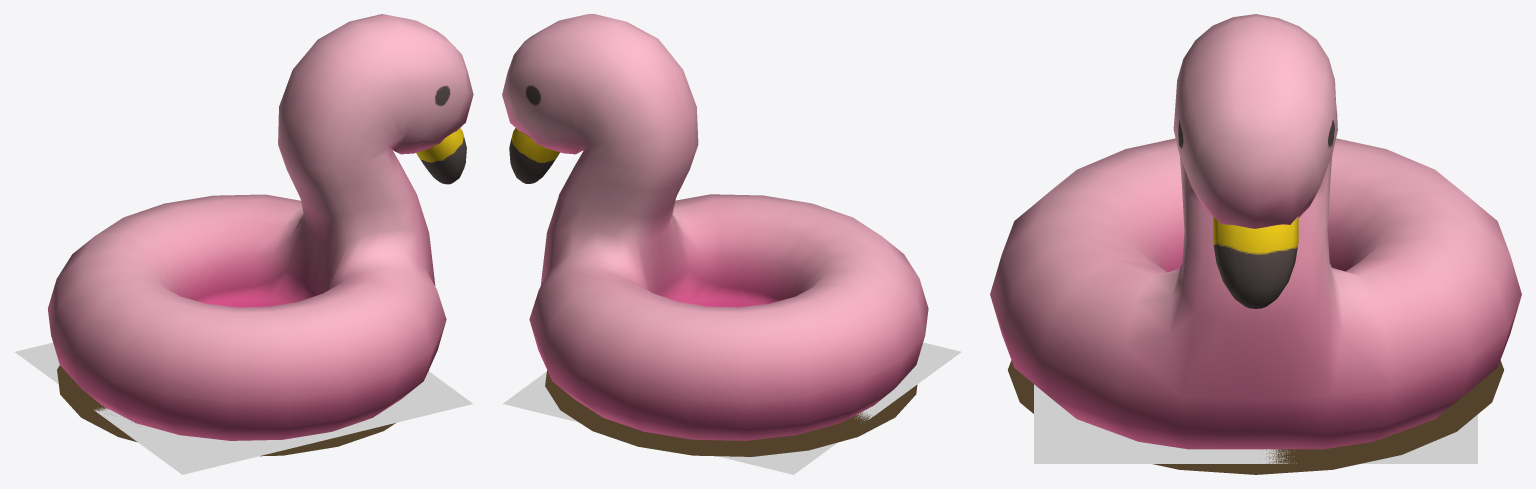
The model's file is Decor_Flamingo.fbx.
3 views of the same model, side by side, from view 1: azimuth 30°, elevation 25°; view 2: azimuth 150°, elevation 25°; view 3: azimuth 270°, elevation 25° (orthographic). The views are drawn at different scales.
Visible parts, largest first — view 1: Flamingo.001, Flamingo_Grid; view 2: Flamingo.001, Flamingo_Grid; view 3: Flamingo.001, Flamingo_Grid.
Boxes of the visible parts, x1,y1,x2,y2 form: Flamingo.001: [48, 14, 473, 456]; Flamingo_Grid: [15, 342, 472, 474]; Flamingo.001: [502, 14, 928, 456]; Flamingo_Grid: [503, 342, 961, 474]; Flamingo.001: [990, 14, 1521, 474]; Flamingo_Grid: [1034, 384, 1477, 463].
Size of the model in its own units: 1.35 by 1.07 by 1.2.
